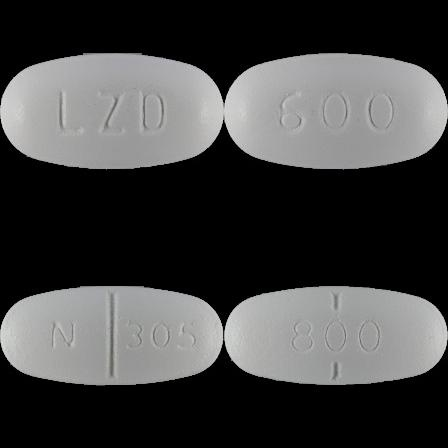0093-8244: (0, 0, 224, 224)
